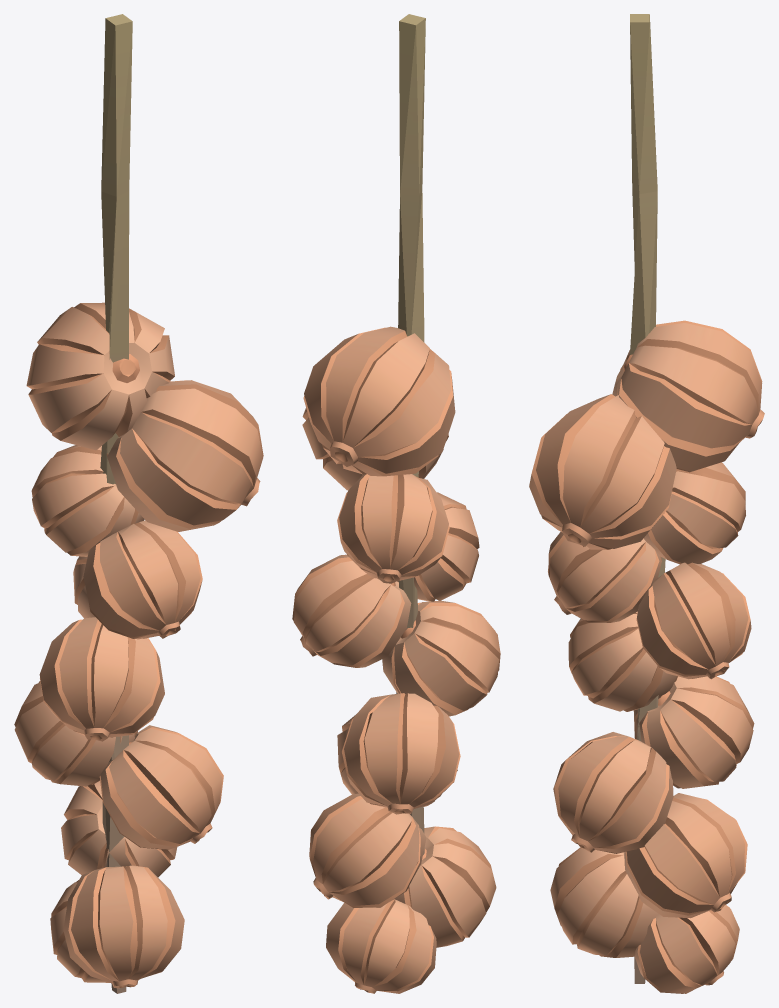
Rendered from Garlic_Braid.glb.
3 views of the same model, side by side, from view 1: azimuth 30°, elevation 25°; view 2: azimuth 150°, elevation 25°; view 3: azimuth 270°, elevation 25° (orthographic).
Visible parts, largest first — view 1: Garlic_Braid; view 2: Garlic_Braid; view 3: Garlic_Braid.
Part boxes in pixels (box(x1,y1,x2,y2)): Garlic_Braid: box(14, 14, 263, 993); Garlic_Braid: box(292, 14, 500, 993); Garlic_Braid: box(529, 14, 764, 993).
Bounding box in the file's own units: 0.1041 × 0.505 × 0.1118.
Materials: 1 (1 with a texture image).
